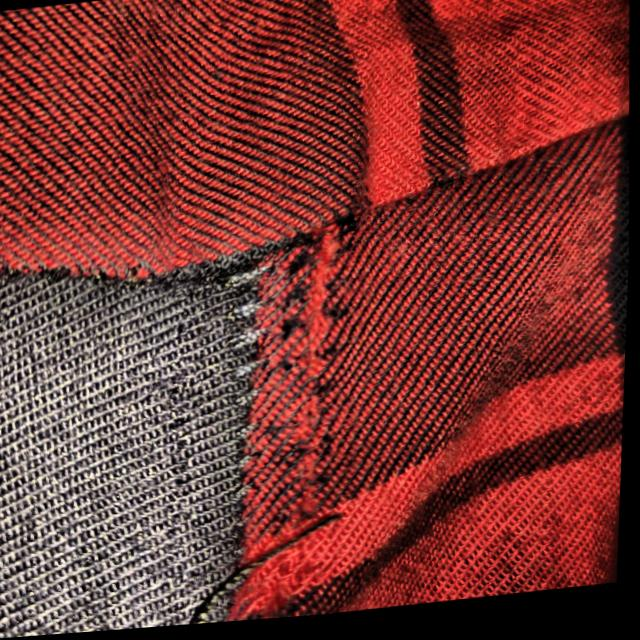Stitch: (170, 226, 371, 629)
